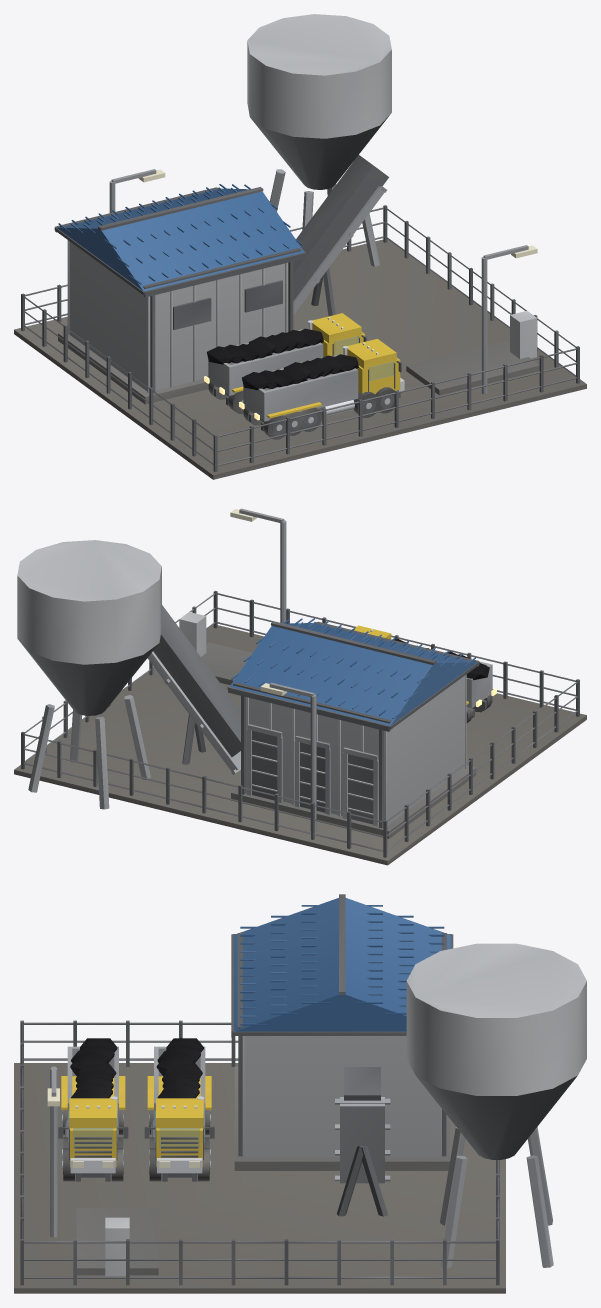
The model's file is Haul_P2.fbx.
The picture shows the model from 3 angles, top to bottom: view 1: azimuth 30°, elevation 25°; view 2: azimuth 150°, elevation 25°; view 3: azimuth 270°, elevation 25°; orthographic projection. The views are drawn at different scales.
Visible parts, largest first — view 1: Haul.Workshop, Haul.Yard, Haul.Hopper, Haul.Parked1, Haul.Fence, Haul.Conv, Haul.Parked0, Haul.Weighbridge, Haul.Lamp0, Haul.Lamp1; view 2: Haul.Workshop, Haul.Yard, Haul.Hopper, Haul.Fence, Haul.Conv, Haul.Weighbridge, Haul.Parked1, Haul.Lamp1, Haul.Lamp0; view 3: Haul.Yard, Haul.Workshop, Haul.Hopper, Haul.Fence, Haul.Parked0, Haul.Parked1, Haul.Conv, Haul.Weighbridge, Haul.Lamp0.
Boxes of the visible parts, box(x1,y1,x2,y2) form: Haul.Workshop: box(54, 184, 306, 404); Haul.Yard: box(14, 239, 586, 479); Haul.Hopper: box(247, 14, 391, 266); Haul.Parked1: box(239, 338, 404, 439); Haul.Fence: box(21, 205, 579, 472); Haul.Conv: box(293, 155, 388, 316); Haul.Parked0: box(204, 313, 366, 413); Haul.Weighbridge: box(406, 311, 539, 395); Haul.Lamp0: box(481, 245, 537, 394); Haul.Lamp1: box(109, 169, 165, 212); Haul.Workshop: box(227, 618, 479, 838); Haul.Yard: box(14, 625, 586, 865); Haul.Hopper: box(17, 540, 161, 809); Haul.Fence: box(21, 590, 579, 857); Haul.Conv: box(148, 605, 240, 774); Haul.Weighbridge: box(179, 612, 252, 684); Haul.Parked1: box(354, 625, 496, 722); Haul.Lamp1: box(260, 682, 316, 831); Haul.Lamp0: box(230, 508, 286, 623); Haul.Yard: box(14, 1063, 505, 1293); Haul.Workshop: box(231, 894, 453, 1170); Haul.Hopper: box(406, 943, 586, 1267); Haul.Fence: box(20, 1020, 499, 1285); Haul.Parked0: box(144, 1038, 214, 1181); Haul.Parked1: box(58, 1038, 128, 1181); Haul.Conv: box(335, 1067, 390, 1216); Haul.Weighbridge: box(76, 1208, 158, 1276); Haul.Lamp0: box(47, 1066, 59, 1237).
Size of the model in its own units: 2600 by 1456 by 2795.
